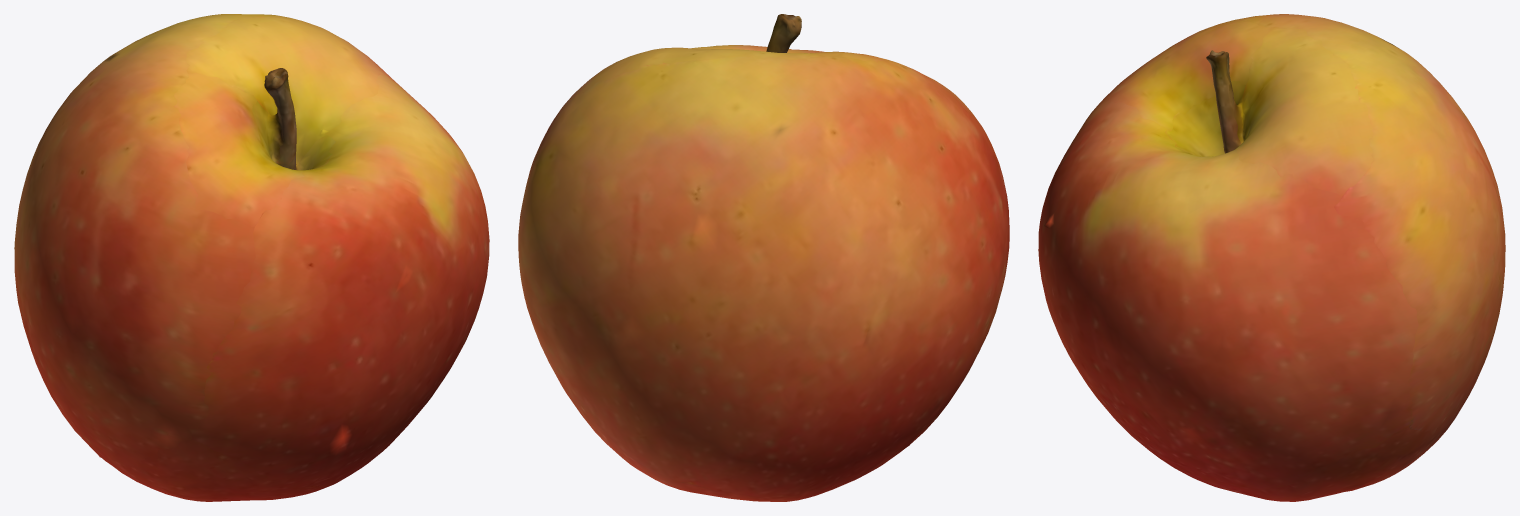
The model's file is apple.glb.
3 renders of one model, left to right at view 1: azimuth 30°, elevation 25°; view 2: azimuth 150°, elevation 25°; view 3: azimuth 270°, elevation 25°, orthographic. The views are drawn at different scales.
Visible parts, largest first — view 1: apple; view 2: apple; view 3: apple.
Boxes of the visible parts, x1,y1,x2,y2 form: apple: [14, 14, 489, 501]; apple: [518, 14, 1009, 501]; apple: [1038, 14, 1505, 501].
Bounding box in the file's own units: 0.0698 × 0.0677 × 0.0694.
1 material, 1 textured.
